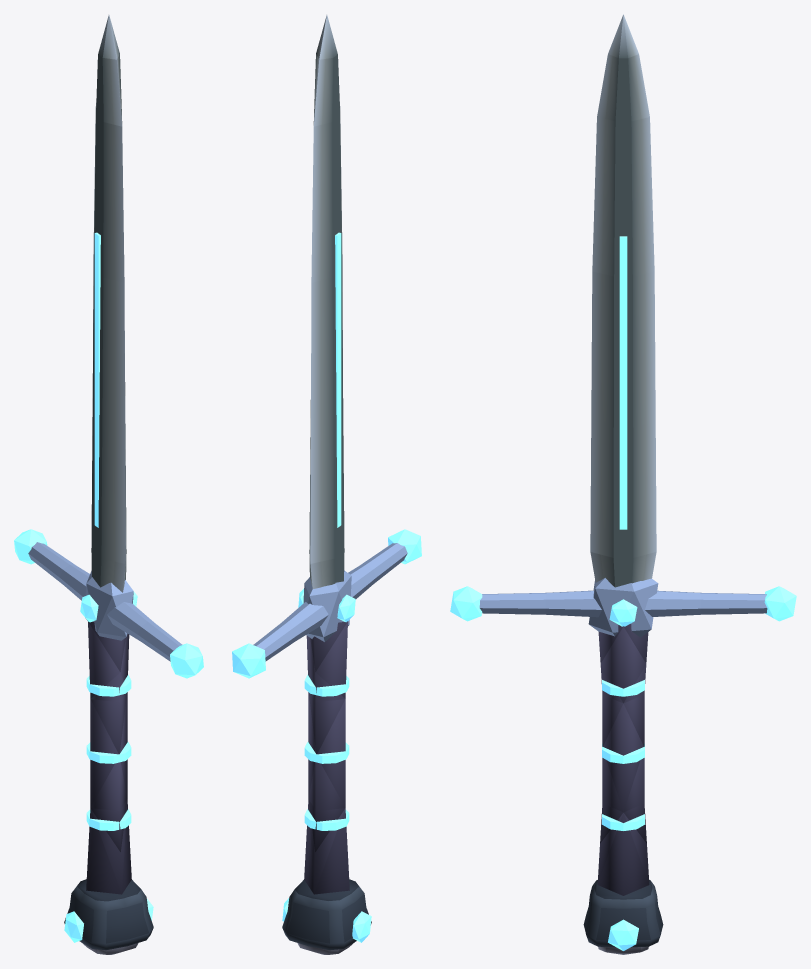
The model's file is sword_rare.glb.
The picture shows the model from 3 angles, left to right: view 1: azimuth 30°, elevation 25°; view 2: azimuth 150°, elevation 25°; view 3: azimuth 270°, elevation 25°; orthographic projection.
Parts seen in each view (by area): view 1: sword_rare; view 2: sword_rare; view 3: sword_rare.
Part boxes in pixels (x1,y1,x2,y2): sword_rare: (14, 15, 203, 954); sword_rare: (232, 15, 421, 954); sword_rare: (450, 14, 796, 954).
Size of the model in its own units: 24.02 by 266 by 88.94.
